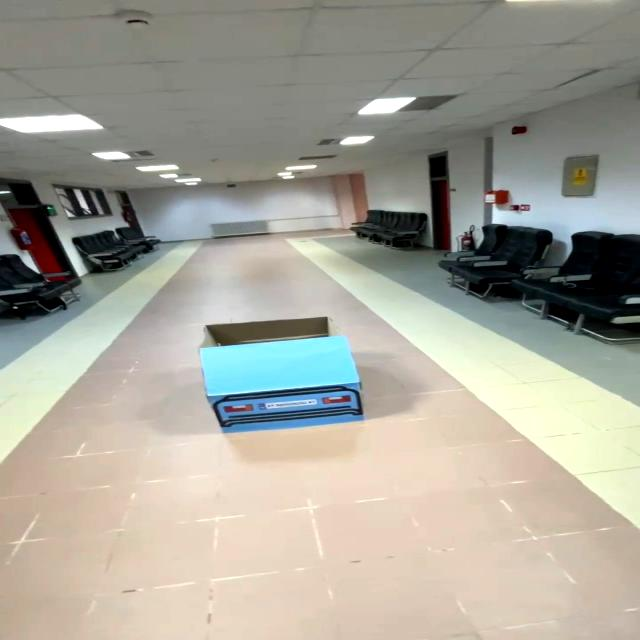blue_car: (180, 312, 394, 447)
